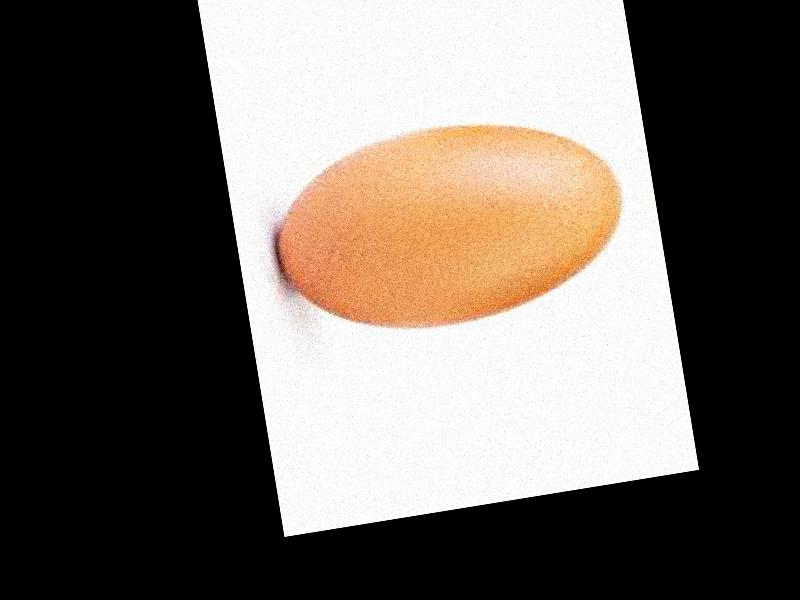Eggs: (263, 103, 637, 348)
